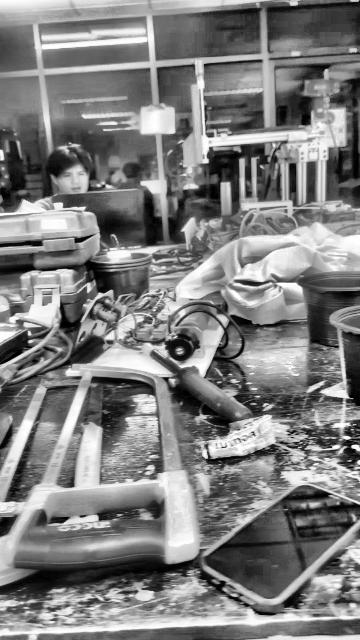pot: (323, 272, 360, 397), (299, 271, 359, 346), (86, 258, 153, 301)
